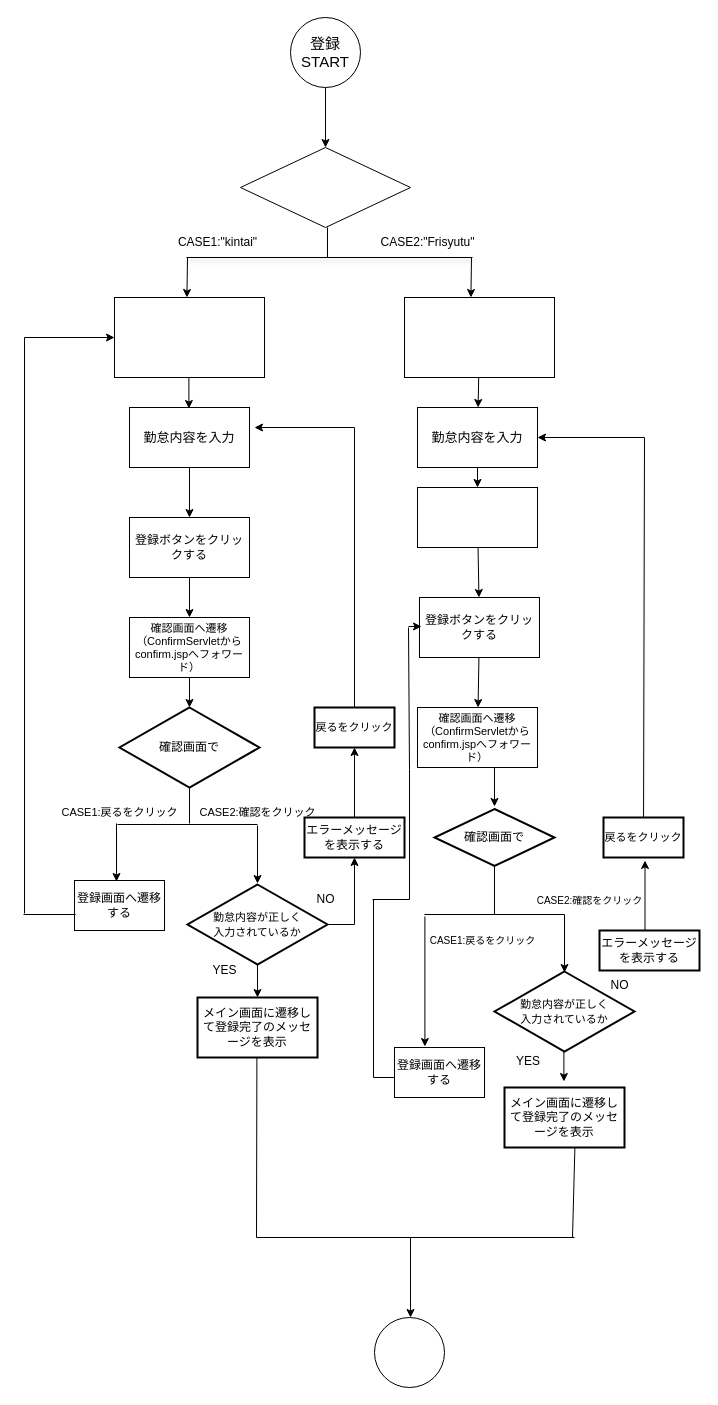
The diagram is 718 pixels wide and 1405 high, and some of its shapes have lost their labels. Each missing label, with the centre of its shape:
勤怠登録画面へ遷移 （registerFlagをリクエストスコープにセットしてregister,jspへフォワード）: pixel 189 337
振休日を入力: pixel 477 517
振出登録画面へ遷移 （registerFlagをリクエストスコープにセットしてregister,jspへフォワード）: pixel 479 337
登録 FIN: pixel 409 1352
登録画面をクリック (registerFlagが…): pixel 325 187
